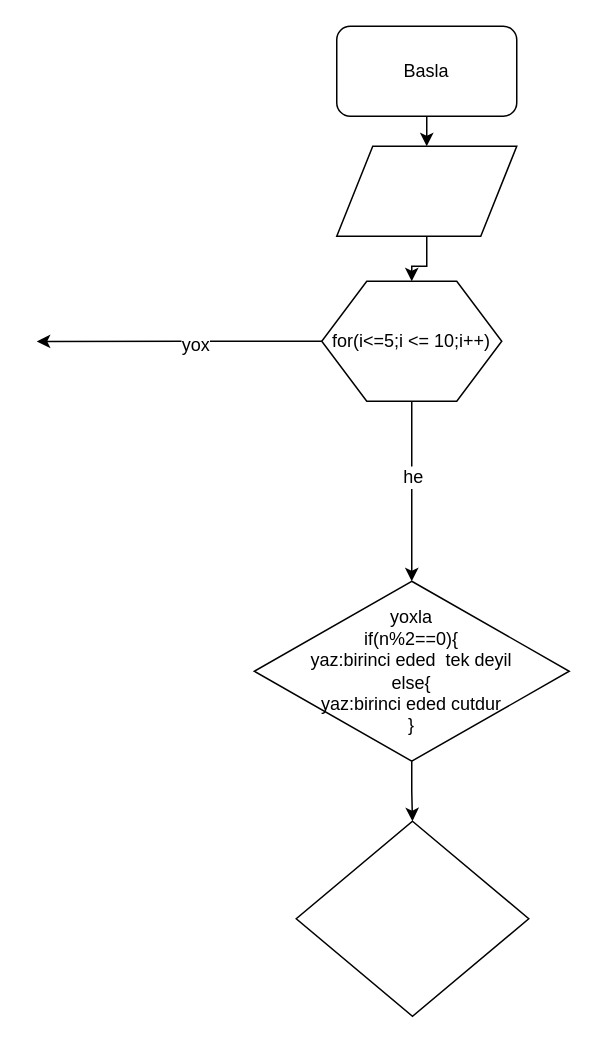
Image size: 596x1043. Some labels were removed from this diagram. The centre of each missing label's shape, as x and y in pixels:
n=5 m=10;: point 426,190
yoxla 2; if((n+m)%==0){ yaz:eded tek deyil; } else{ eded cutdur }: point 412,918
